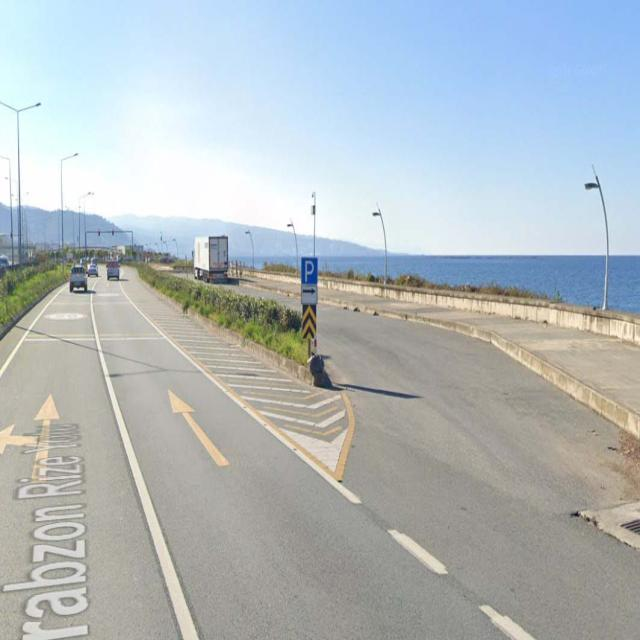park: (302, 257, 320, 285)
